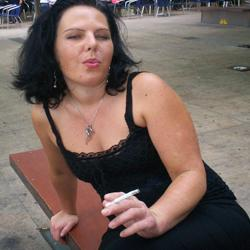smoking: (99, 186, 158, 241)
